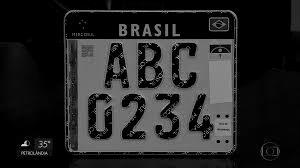placa_mercosul: (68, 11, 235, 154)
